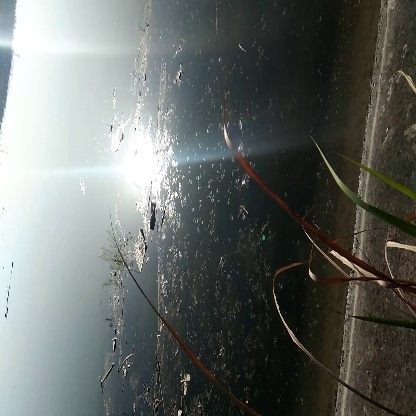plastic-garbage: (130, 228, 151, 273)
